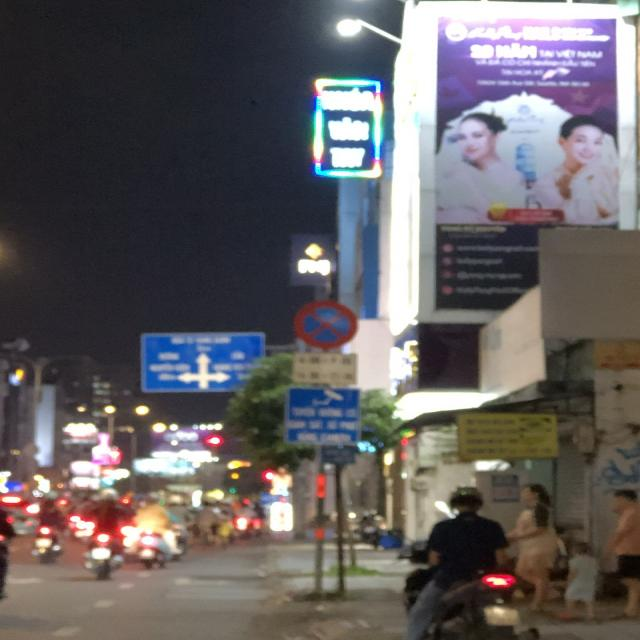Bien bao cam dung xe va do xe: (282, 294, 364, 351)
